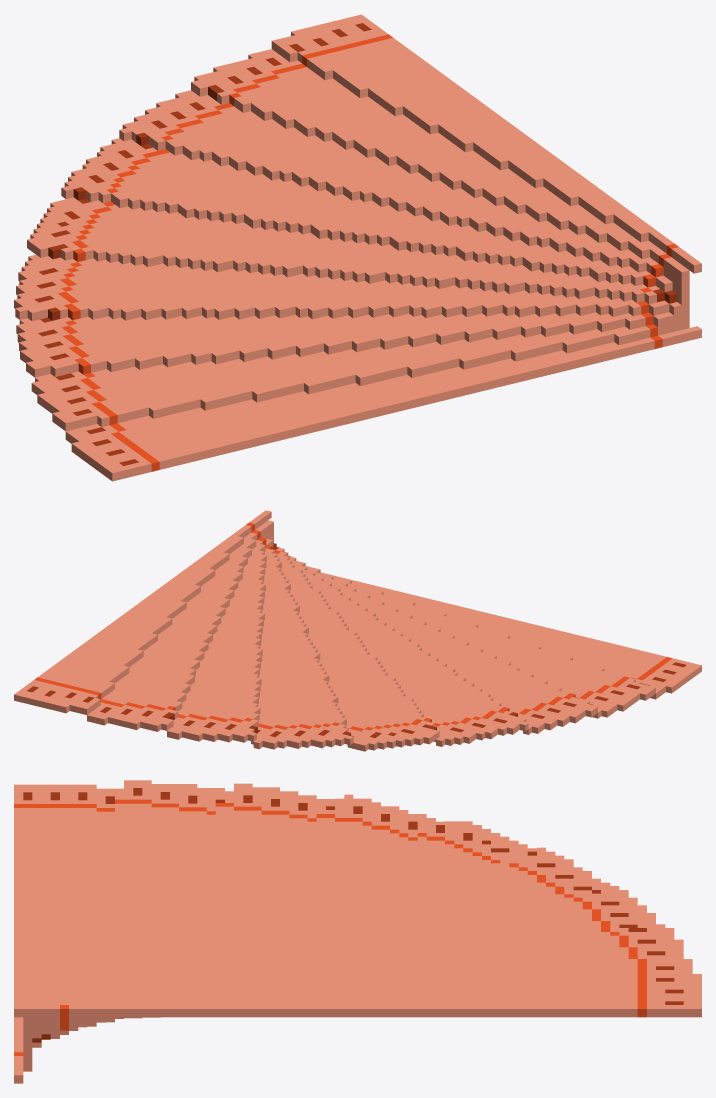
The model's file is Incline_90_right-0.obj.
3 views of the same model, one above another, from view 1: azimuth 30°, elevation 25°; view 2: azimuth 150°, elevation 25°; view 3: azimuth 270°, elevation 25° (orthographic). The views are drawn at different scales.
Parts seen in each view (by area): view 1: Incline_90_right-0; view 2: Incline_90_right-0; view 3: Incline_90_right-0.
Part boxes in pixels (bbox=[...]): Incline_90_right-0: bbox=[14, 14, 701, 481]; Incline_90_right-0: bbox=[14, 510, 701, 751]; Incline_90_right-0: bbox=[14, 780, 701, 1083].
Bounding box in the file's own units: 75 × 9 × 75.
Materials: 1 (1 with a texture image).
